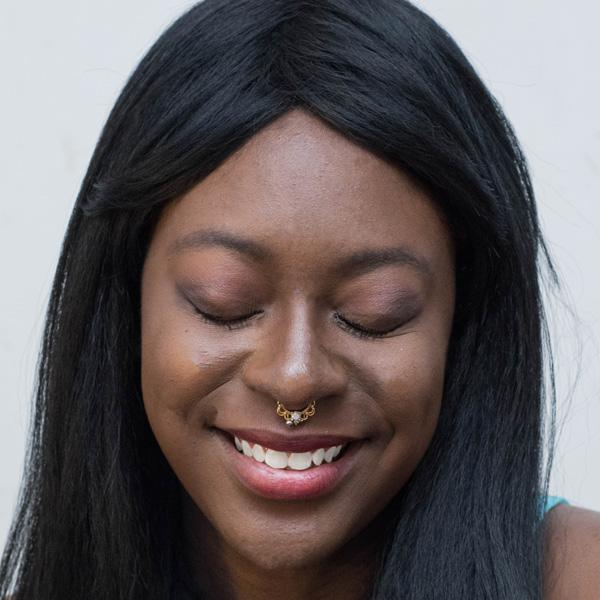Eyes: (172, 264, 269, 336), (328, 286, 426, 346)
